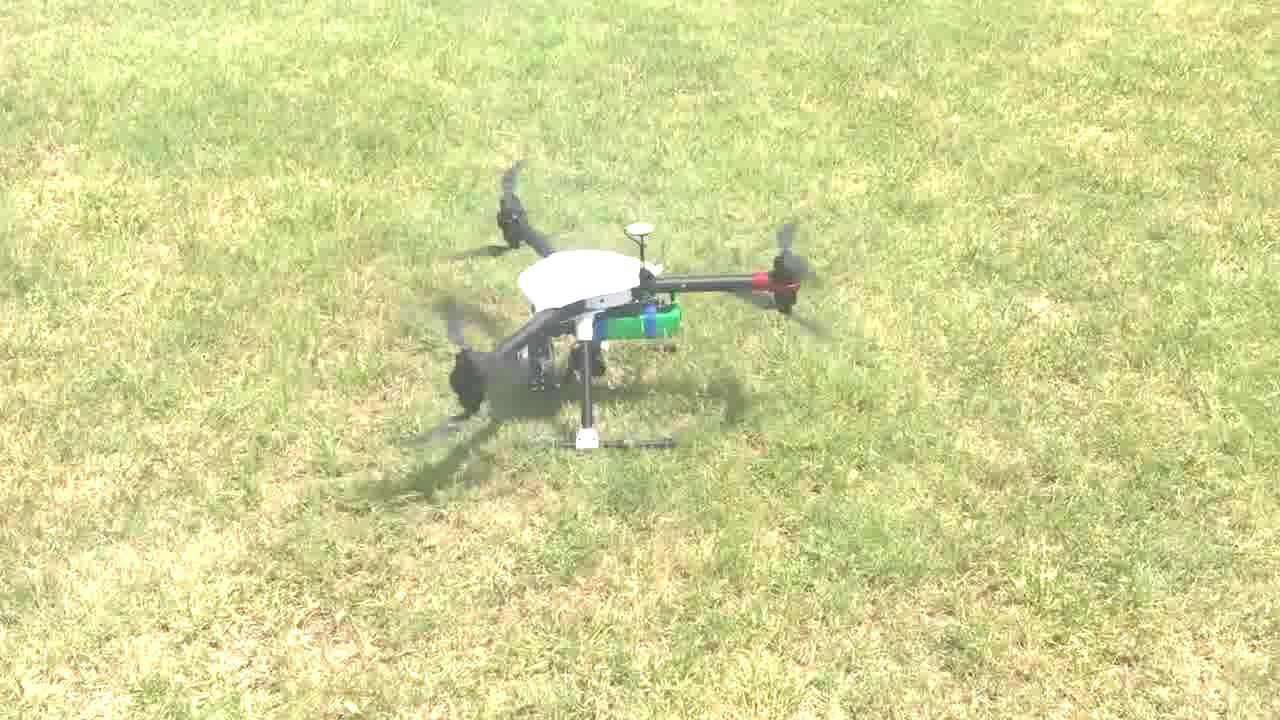drone: (389, 151, 834, 452)
